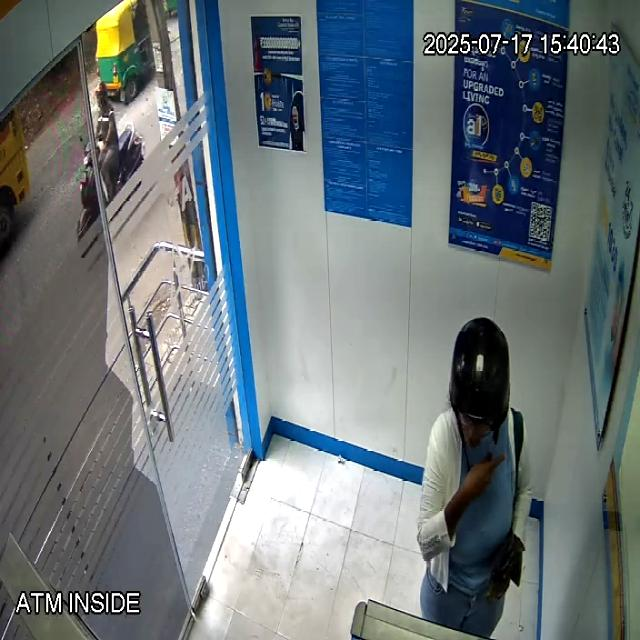no_helmet: (450, 317, 510, 448)
